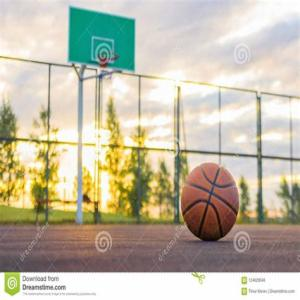Basket: (181, 162, 240, 242)
